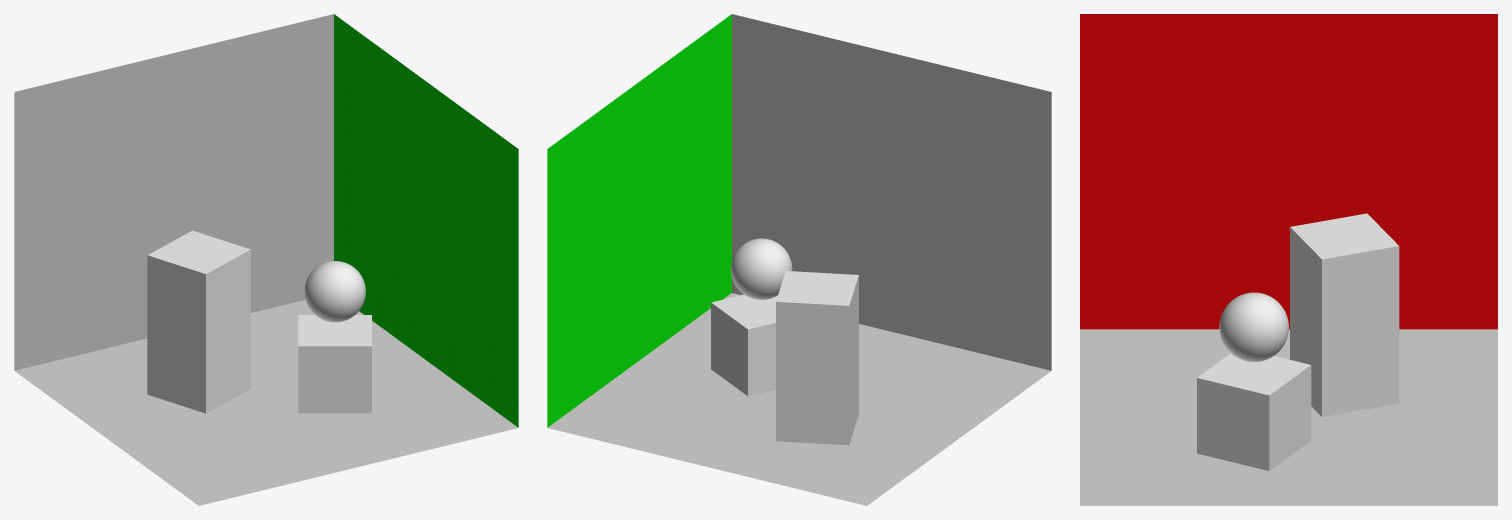
Rendered from gi_cornell_box.glb.
The picture shows the model from 3 angles, left to right: view 1: azimuth 30°, elevation 25°; view 2: azimuth 150°, elevation 25°; view 3: azimuth 270°, elevation 25°; orthographic projection. The views are drawn at different scales.
Bounding box in the file's own units: 6 × 5 × 6.
